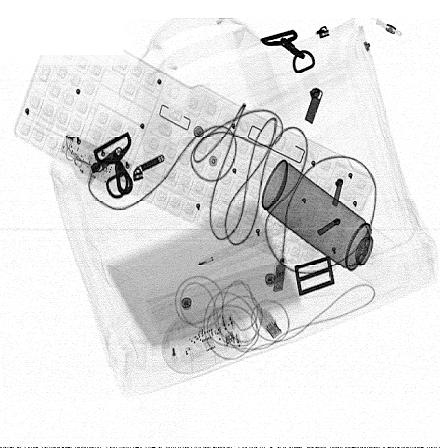Sprayer: (261, 158, 395, 288)
